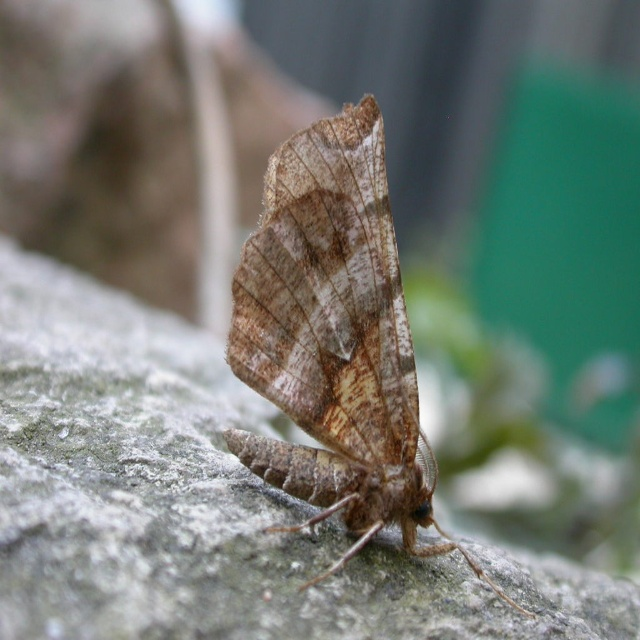Butterfly: (221, 93, 534, 617)
